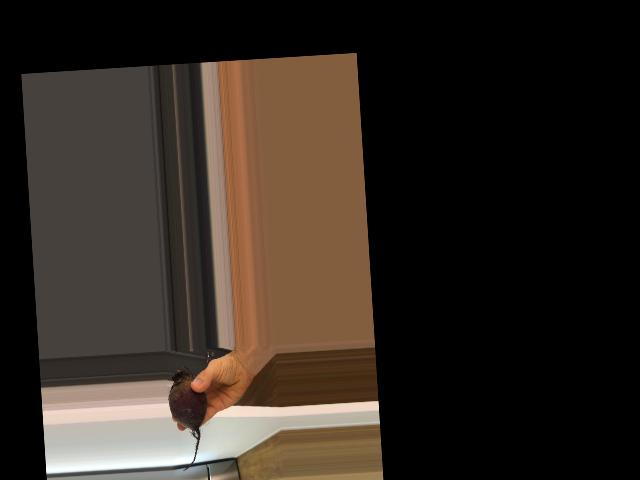beet: (166, 364, 210, 471)
